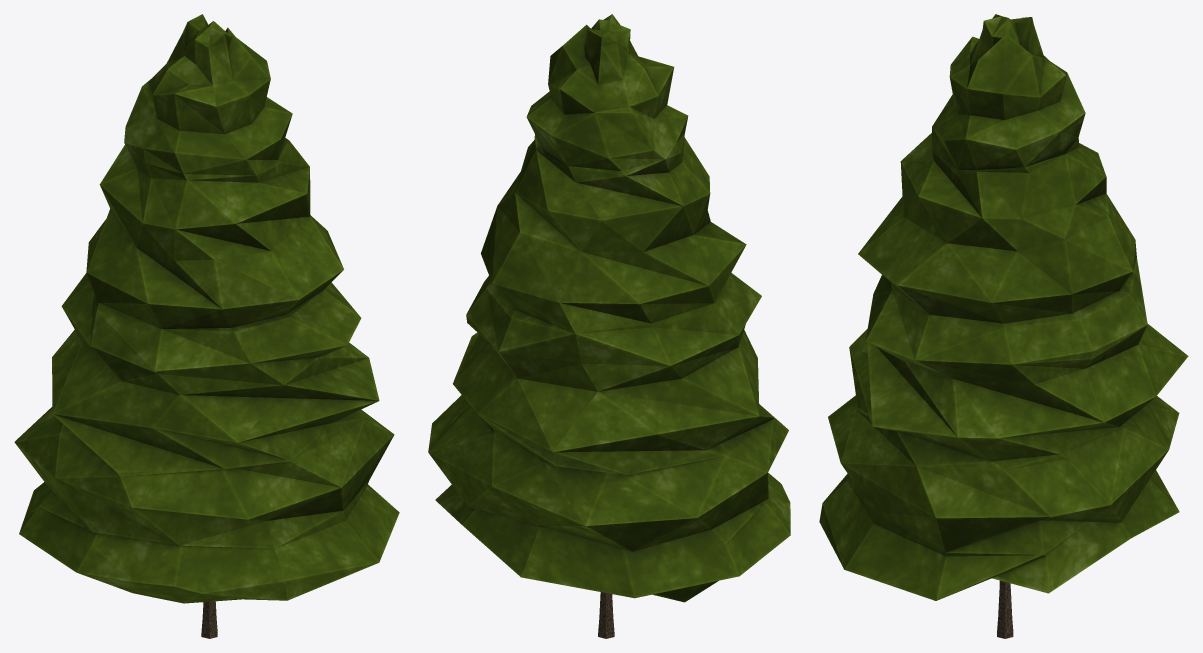
Rendered from LarchTree.gltf.
3 views of the same model, side by side, from view 1: azimuth 30°, elevation 25°; view 2: azimuth 150°, elevation 25°; view 3: azimuth 270°, elevation 25° (orthographic).
Parts seen in each view (by area): view 1: node-0; view 2: node-0; view 3: node-0.
Boxes of the visible parts, x1=… form: node-0: x1=14, y1=14, x2=399, y2=638; node-0: x1=428, y1=14, x2=790, y2=638; node-0: x1=819, y1=14, x2=1188, y2=638.
Size of the model in its own units: 9.25 by 17.02 by 9.19.
1 material, 1 textured.
